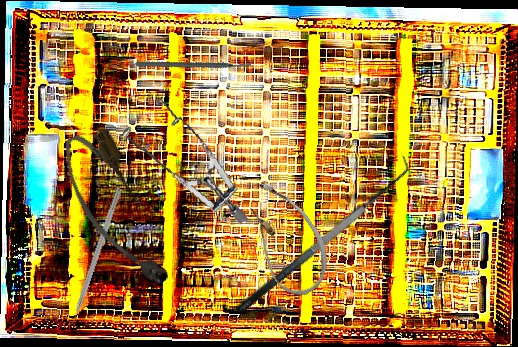Cannula: (52, 121, 180, 300), (225, 172, 344, 305)
Chopper: (134, 15, 257, 110), (59, 184, 123, 332)
Spatula Surgical: (222, 152, 420, 316)
Speculum: (113, 86, 250, 243)
